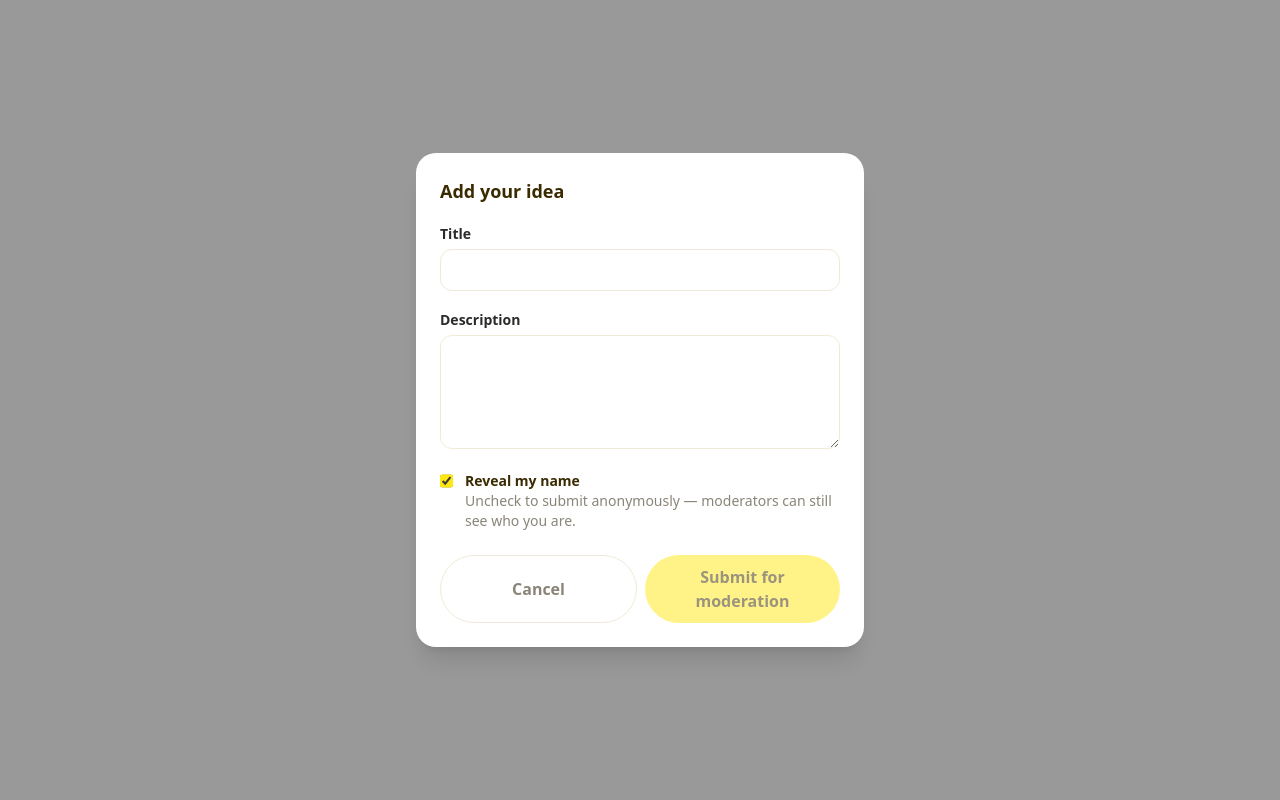
Test: SubmitDialog › surfaces a submission error to the user
The width and height of the screenshot is (1280, 800).
Step 1. Type "Solar benches" into the field labelled "Title" → (640, 270), box [440, 249, 840, 291]
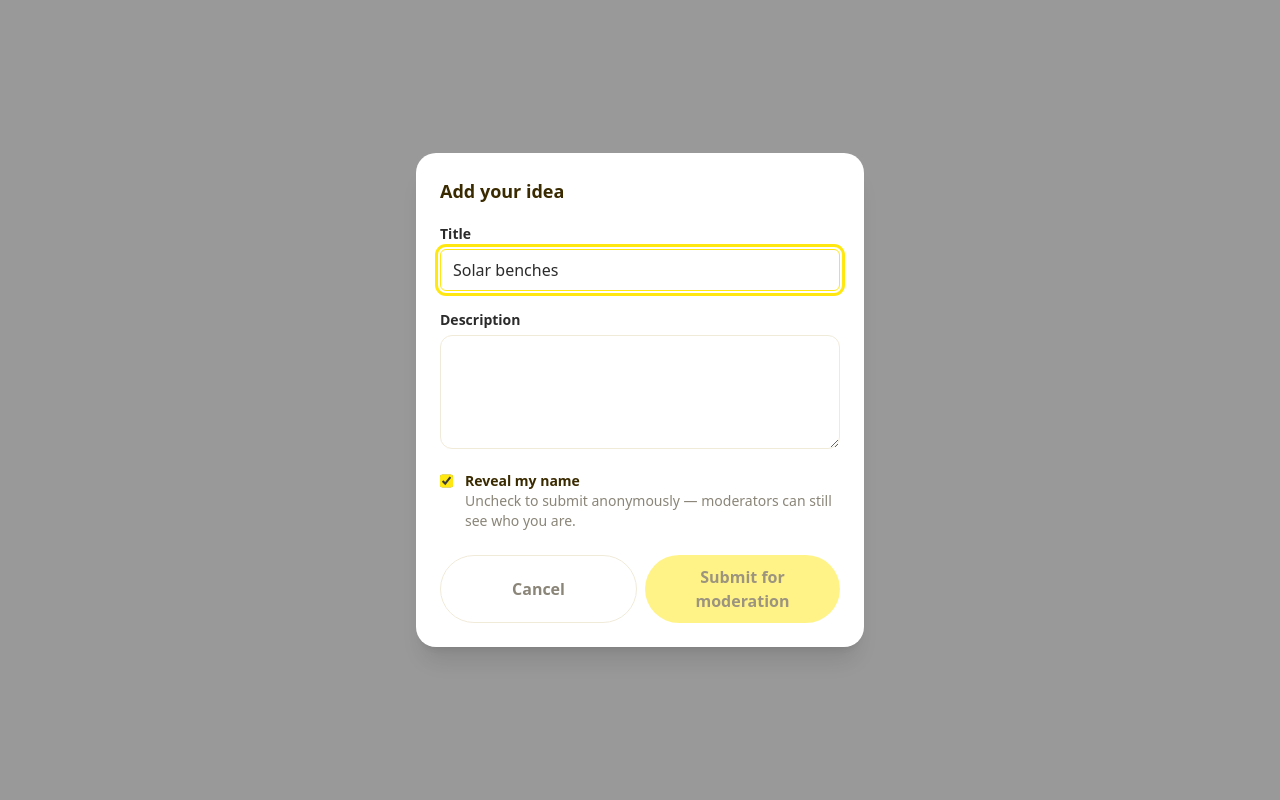
Step 2. Type "Charge your phone in the sun" into the text box labelled "Description" → (640, 392), box [440, 335, 840, 449]
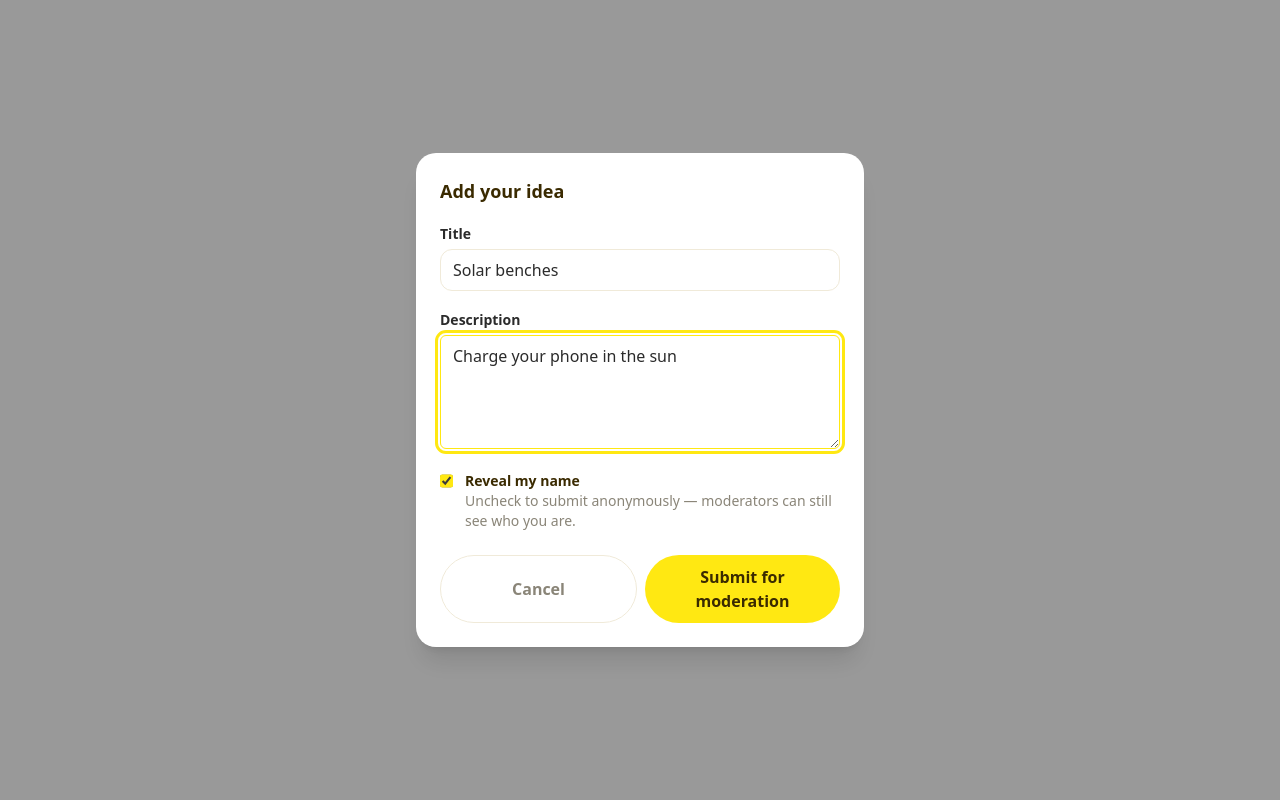
Step 3. Click the button "Submit for moderation" → (742, 589), box [645, 555, 840, 623]
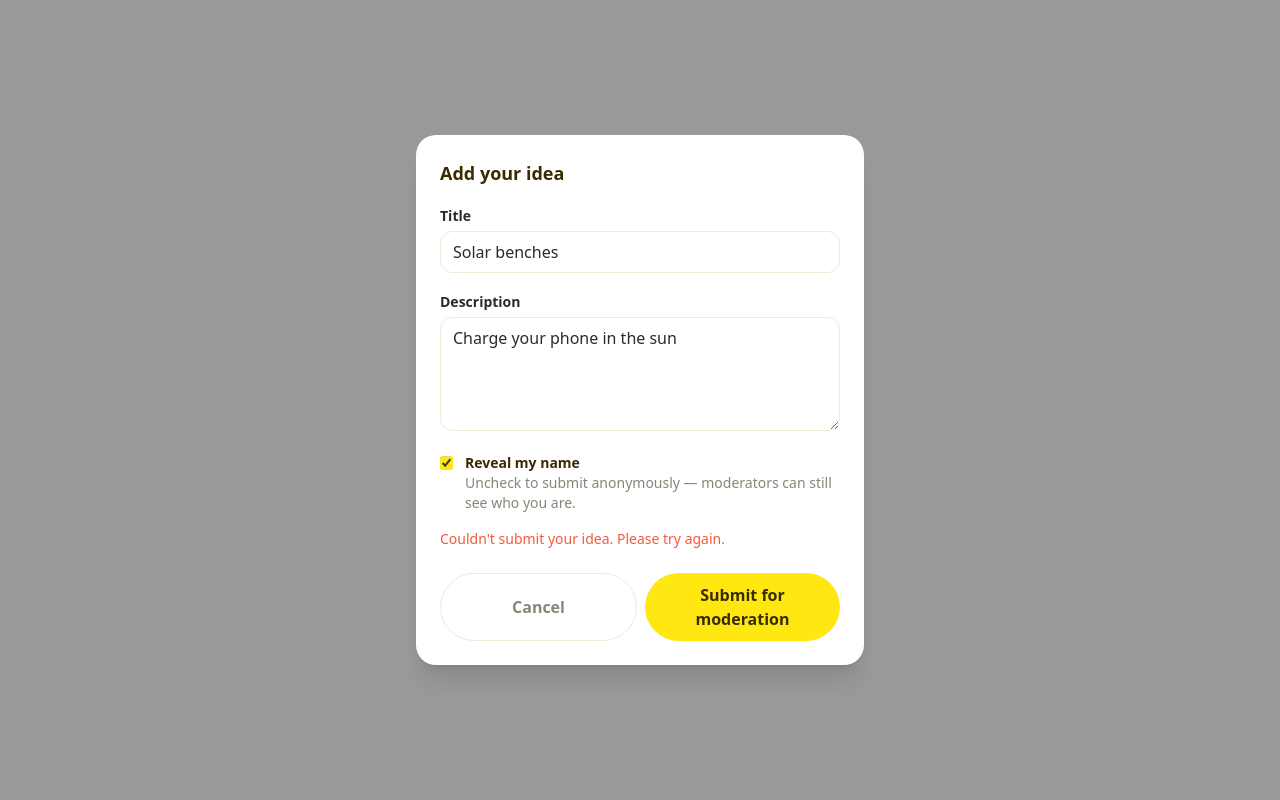
Now the message reads "Couldn't submit your idea. Please try again.", box [440, 529, 725, 548]
